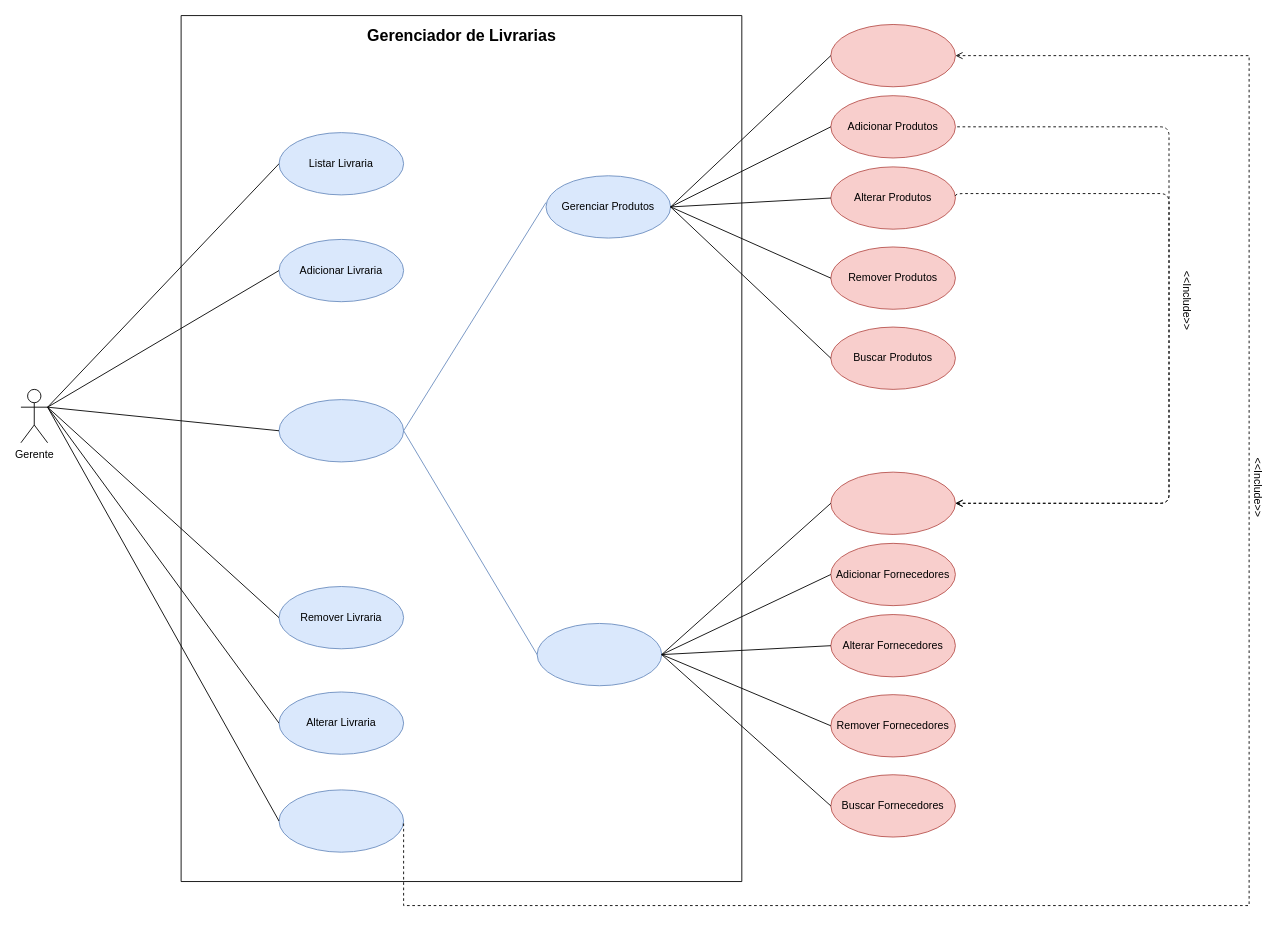
Some shapes in this 1282 by 928 pixel diagram are drawn without their labels. Here are the shapes that lost their labels. From the top down, the centre of each, then its label:
At (892,55): "Listar Produtos".
At (341,430): "Acessar Livraria".
At (892,502): "Listar Fornecedores".
At (599,654): "Gerenciar Fornecedores".
At (341,820): "Buscar Livraria".
